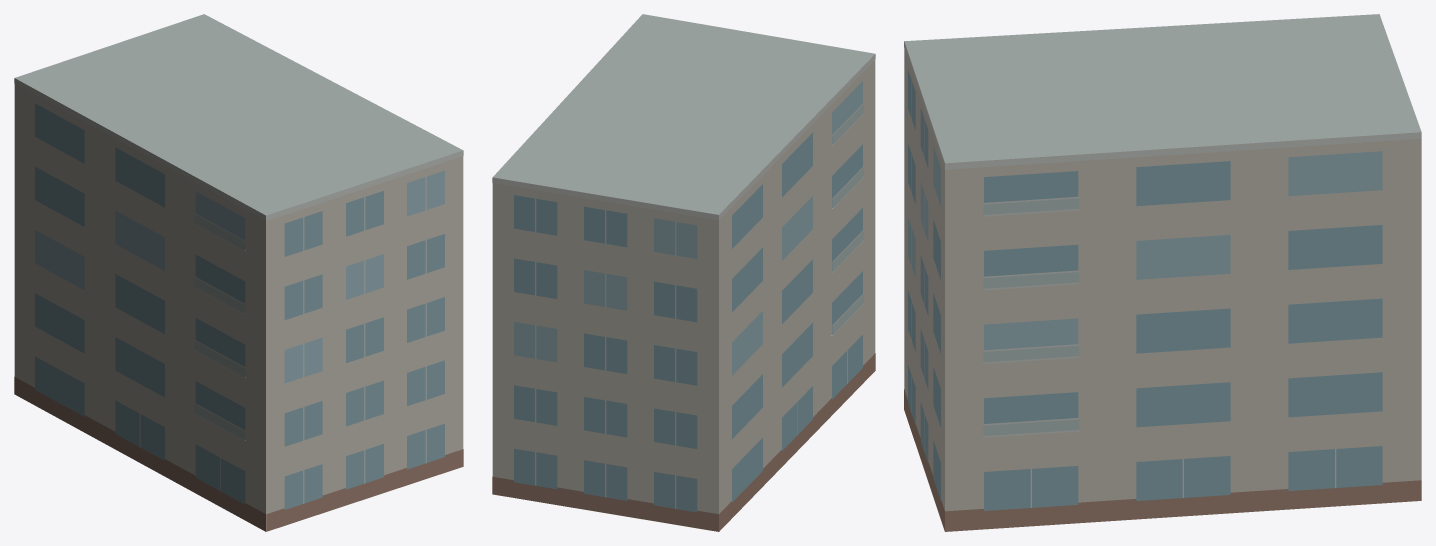
Rendered from survey-upis-32760691.glb.
3 views of the same model, side by side, from view 1: azimuth 30°, elevation 25°; view 2: azimuth 150°, elevation 25°; view 3: azimuth 270°, elevation 25° (orthographic). The views are drawn at different scales.
Visible parts, largest first — view 1: survey-upis-32760691.tmp; view 2: survey-upis-32760691.tmp; view 3: survey-upis-32760691.tmp.
Part boxes in pixels (x1,y1,x2,y2): survey-upis-32760691.tmp: [14, 14, 463, 531]; survey-upis-32760691.tmp: [492, 14, 875, 531]; survey-upis-32760691.tmp: [904, 14, 1421, 531].
Bounding box in the file's own units: 12.13 × 13.95 × 17.76.
